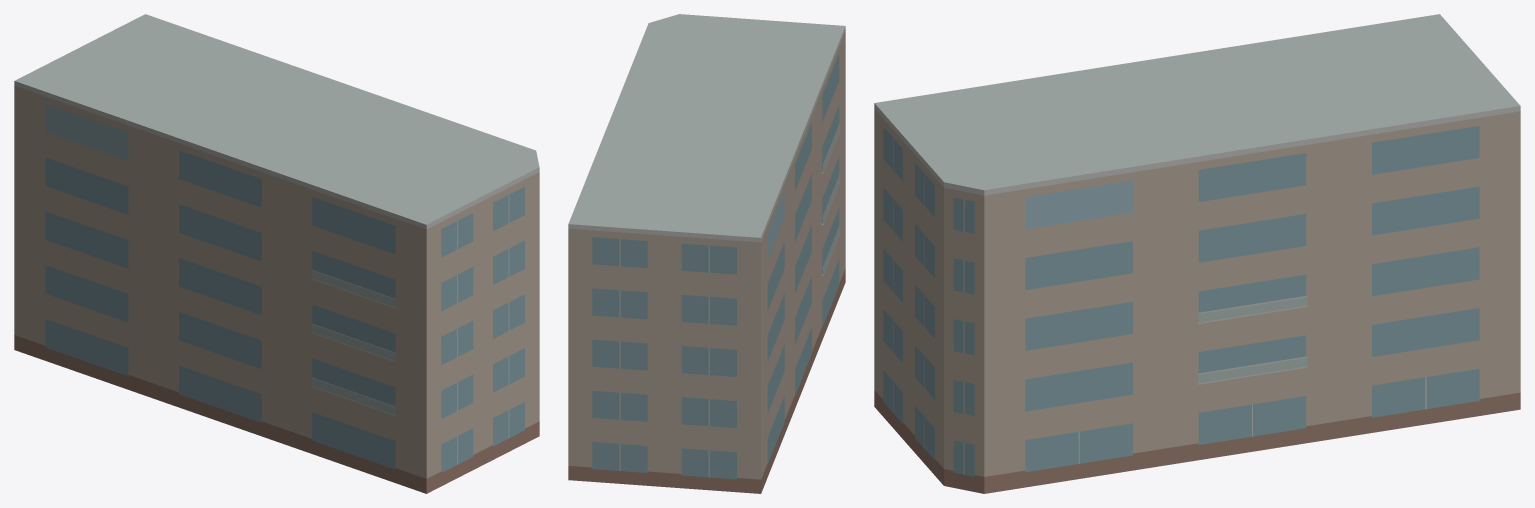
Rendered from survey-upis-32523454.glb.
3 renders of one model, left to right at view 1: azimuth 30°, elevation 25°; view 2: azimuth 150°, elevation 25°; view 3: azimuth 270°, elevation 25°, orthographic. The views are drawn at different scales.
Parts seen in each view (by area): view 1: survey-upis-32523454.tmp; view 2: survey-upis-32523454.tmp; view 3: survey-upis-32523454.tmp.
Part boxes in pixels (x1,y1,x2,y2): survey-upis-32523454.tmp: (14, 14, 539, 493); survey-upis-32523454.tmp: (568, 14, 845, 493); survey-upis-32523454.tmp: (874, 14, 1520, 493).
Size of the model in its own units: 17.06 by 13.7 by 26.43.
